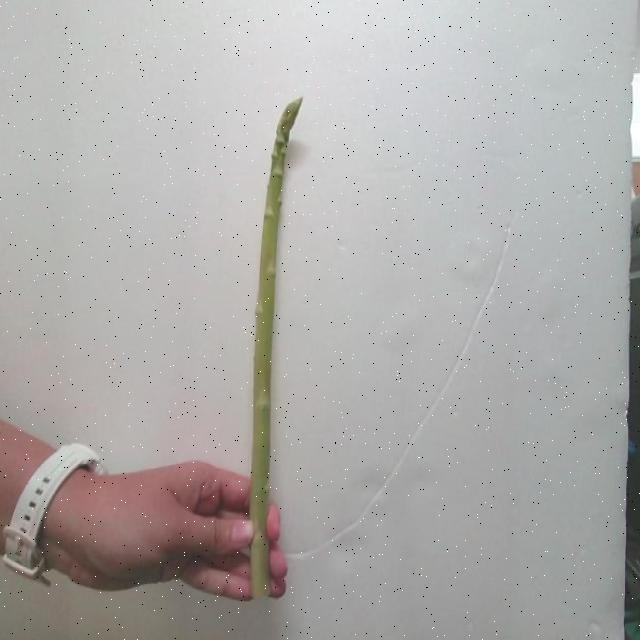aspargus: (250, 101, 303, 601)
